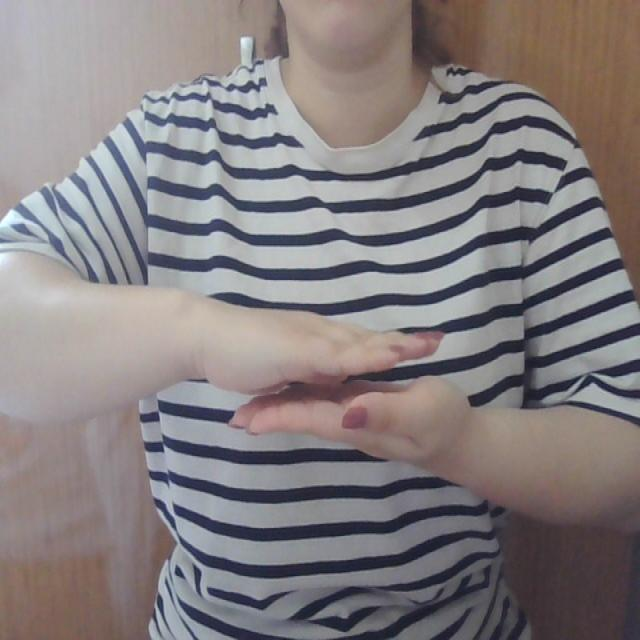Arkadas: (167, 288, 532, 477)
